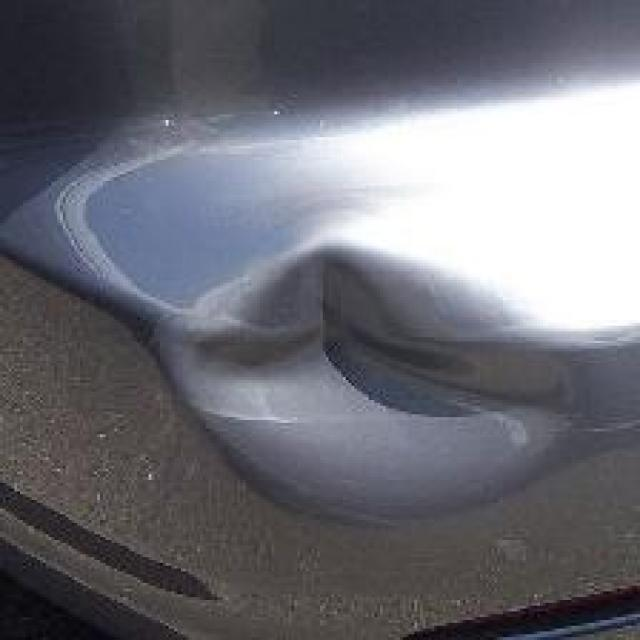damaged: (134, 226, 632, 532)
